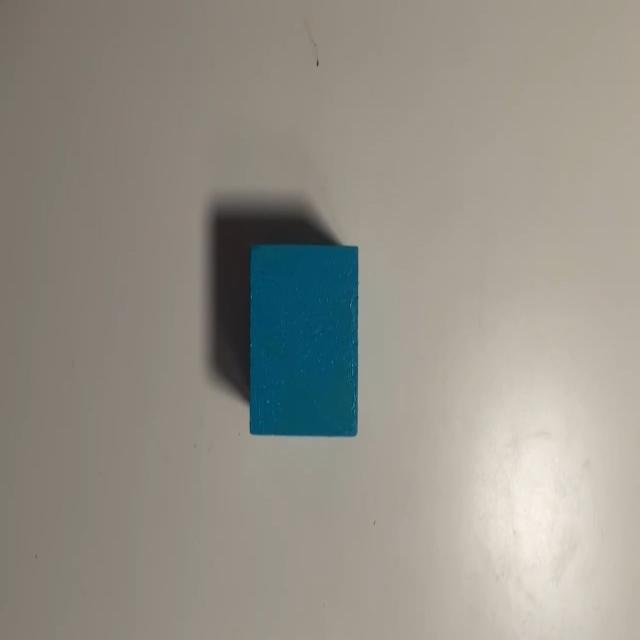blue_block: (251, 247, 358, 437)
